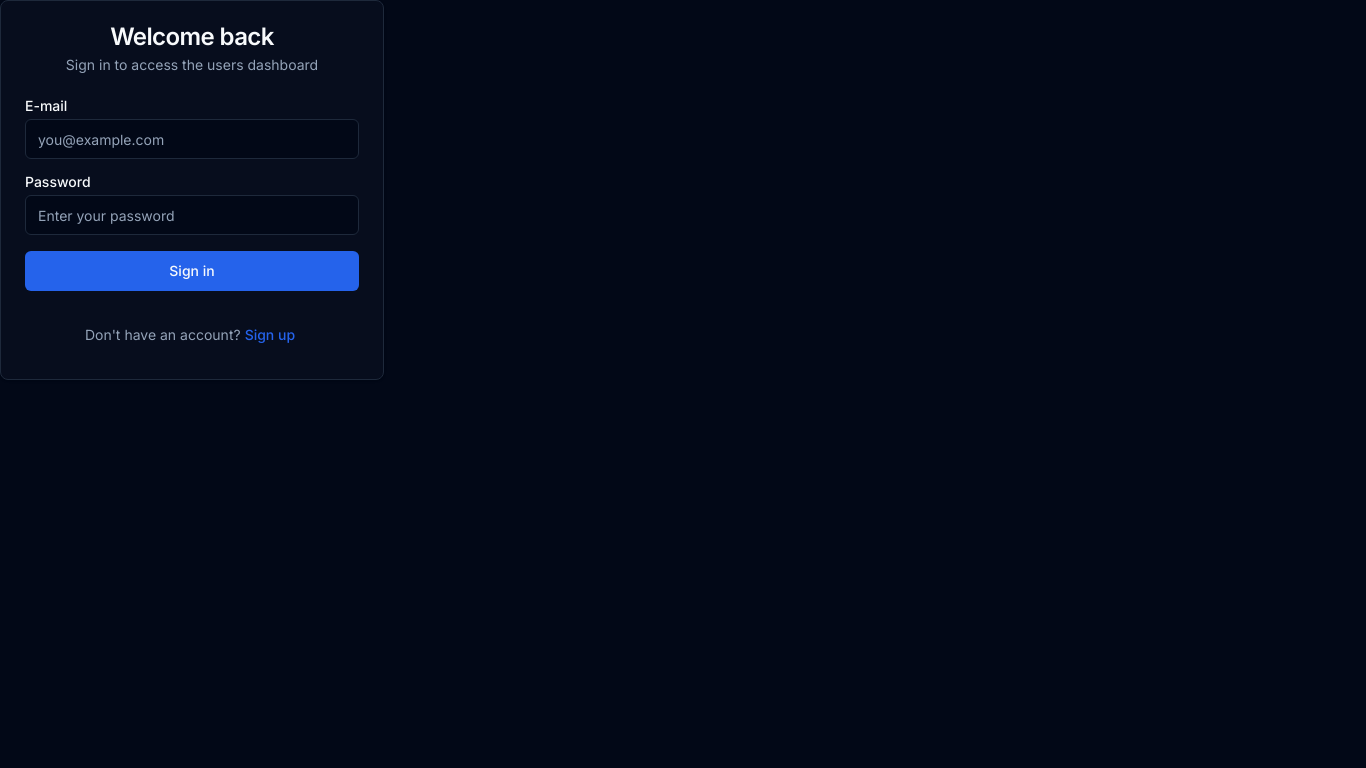
Test: <LoginForm /> › shows a toast when the credentials are invalid
The image size is (1366, 768).
Type "ghost@example.com" into the field labelled "E-mail" at (192, 139), box [25,119,359,159]
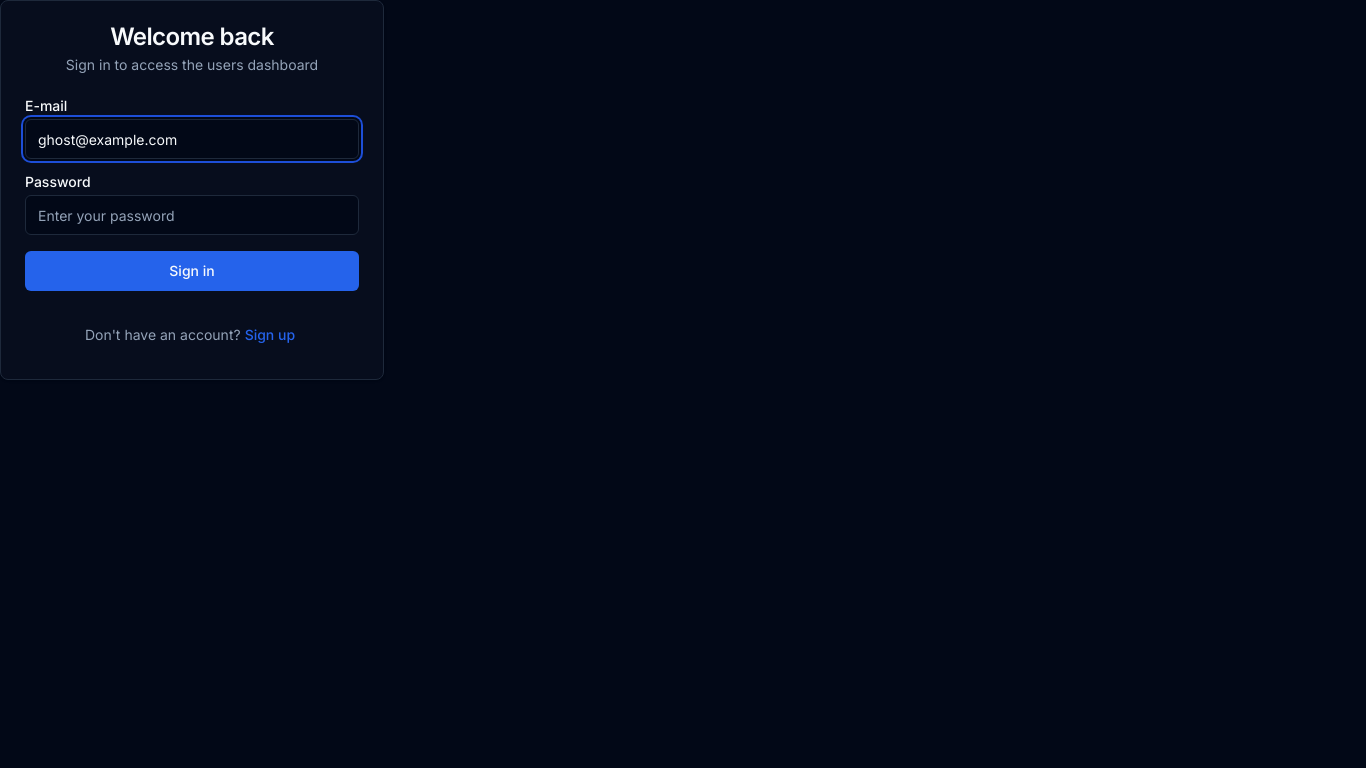
Type "whatever" into the password field labelled "Password" at (192, 215), box [25,195,359,235]
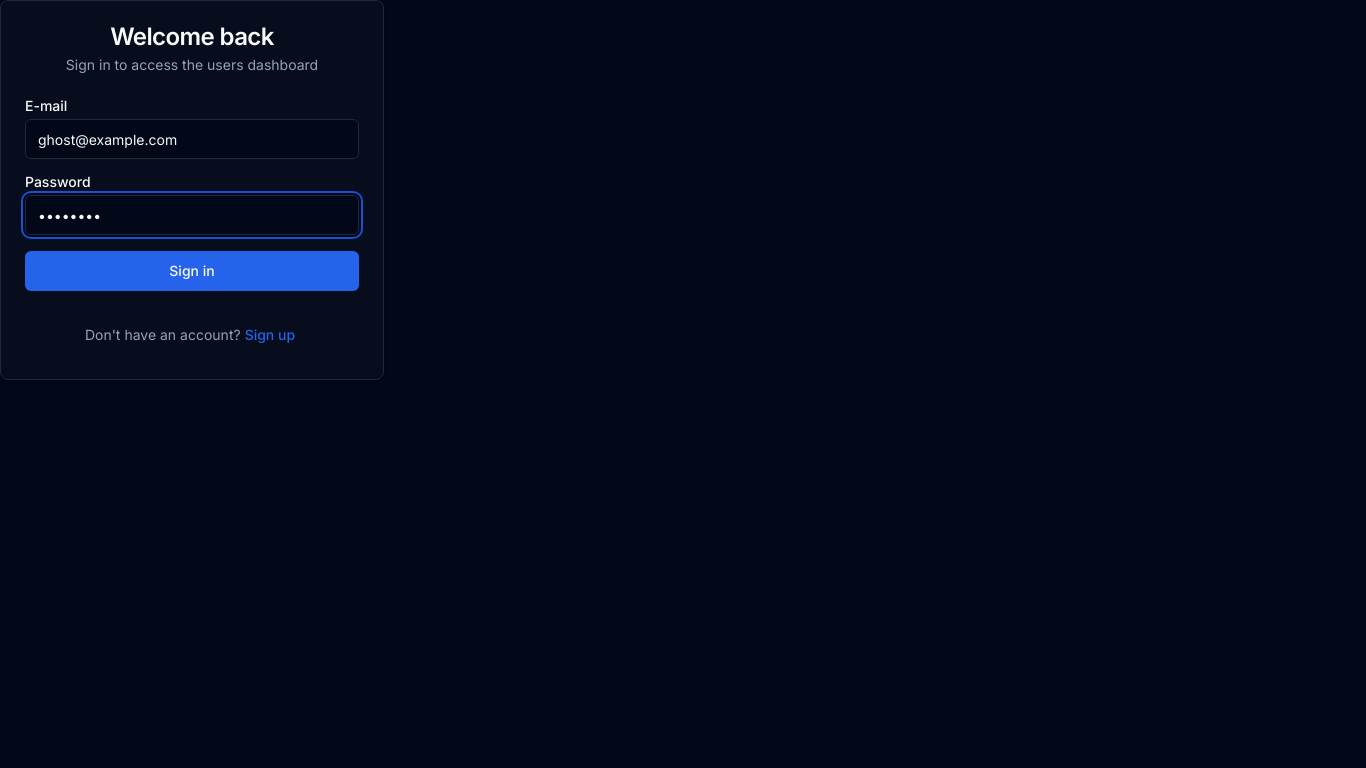
Click the button "Sign in" at (192, 271), box [25,251,359,291]
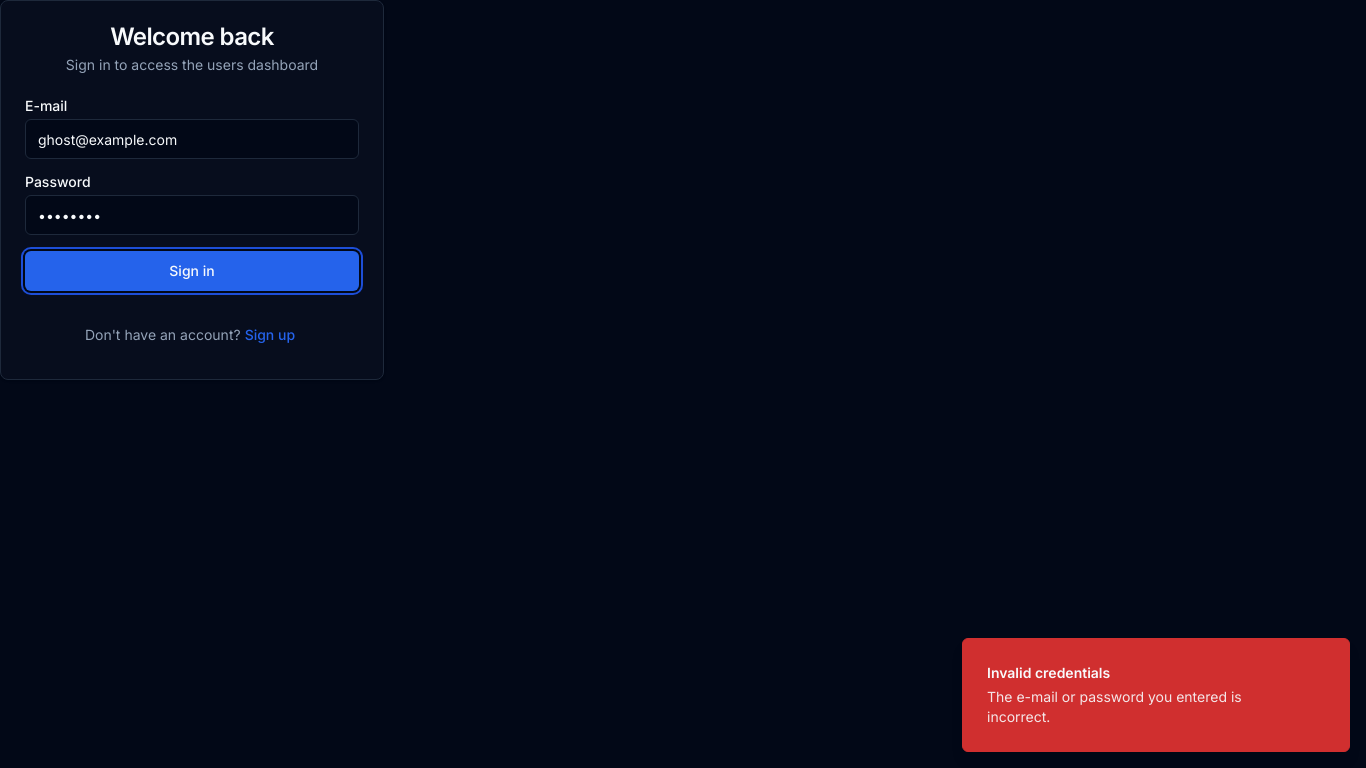
Expected: the text "Invalid credentials" is shown, [987,664,1110,681]
